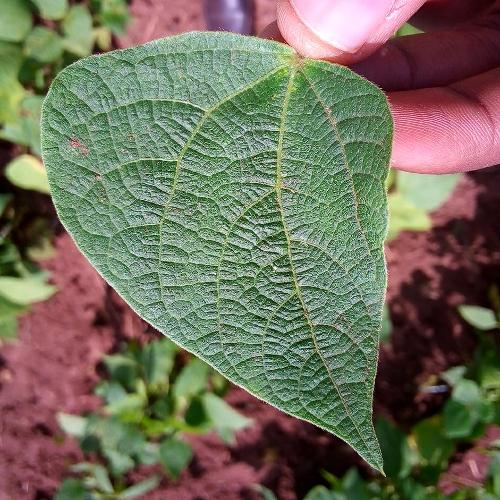hawar: (62, 122, 109, 172), (278, 172, 320, 207)
mozaik: (191, 246, 371, 360)
